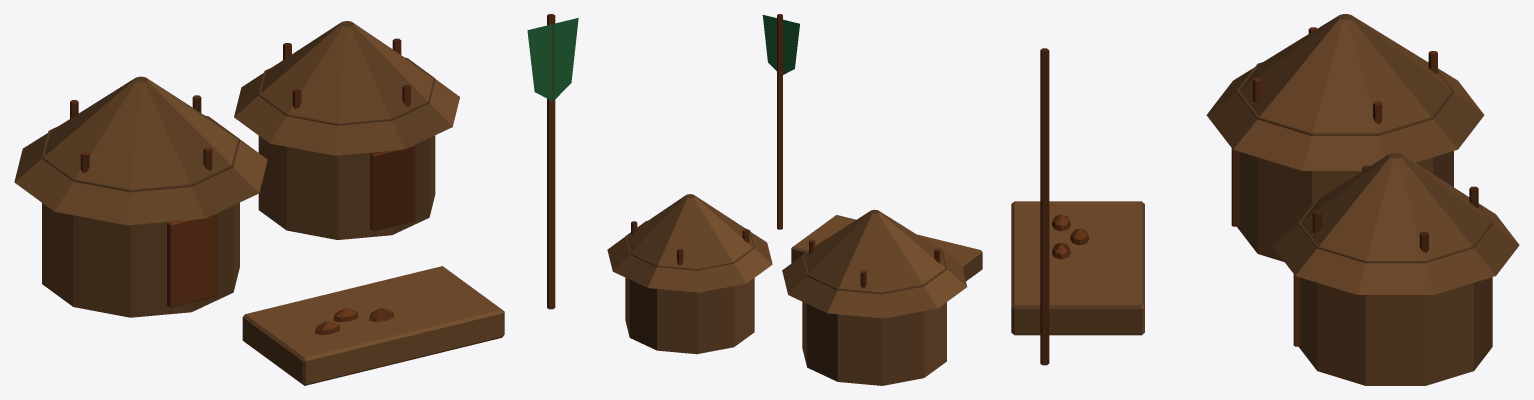
File: edificio-b_015-e0-BPSJDRNG.glb
3 views of the same model, side by side, from view 1: azimuth 30°, elevation 25°; view 2: azimuth 150°, elevation 25°; view 3: azimuth 270°, elevation 25° (orthographic). The views are drawn at different scales.
Visible parts, largest first — view 1: edificio_b_015_e0_envolvente, edificio_b_015_e0_detalles, edificio_b_015_e0_team_color; view 2: edificio_b_015_e0_envolvente, edificio_b_015_e0_detalles, edificio_b_015_e0_team_color; view 3: edificio_b_015_e0_envolvente, edificio_b_015_e0_detalles.
Boxes of the visible parts, box(x1,y1,x2,y2) form: edificio_b_015_e0_envolvente: box(14, 21, 504, 385); edificio_b_015_e0_detalles: box(70, 14, 555, 334); edificio_b_015_e0_team_color: box(527, 18, 578, 101); edificio_b_015_e0_envolvente: box(607, 194, 982, 385); edificio_b_015_e0_detalles: box(631, 14, 940, 287); edificio_b_015_e0_team_color: box(762, 15, 799, 74); edificio_b_015_e0_envolvente: box(1011, 14, 1519, 385); edificio_b_015_e0_detalles: box(1040, 27, 1478, 365).
Size of the model in its own units: 31.97 by 21 by 30.42.
3 materials, 3 textured.
